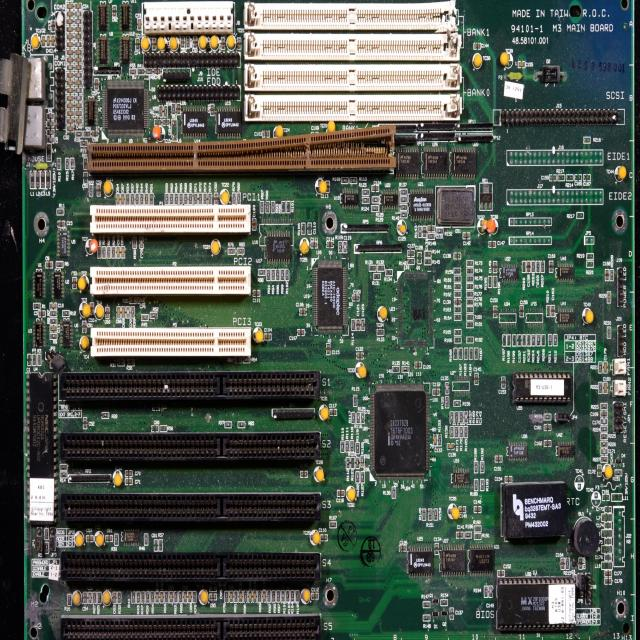Capacitor Jumper: (66, 40, 74, 49), (66, 85, 74, 94), (153, 538, 158, 552), (72, 276, 77, 289), (74, 56, 82, 64), (74, 63, 82, 71), (75, 108, 83, 116), (74, 10, 82, 18), (543, 439, 552, 446), (434, 543, 439, 555), (560, 558, 565, 570), (96, 184, 101, 196), (526, 261, 531, 273), (604, 270, 609, 282), (82, 321, 87, 333), (517, 334, 522, 346), (66, 34, 74, 41), (74, 34, 82, 41), (432, 388, 440, 395), (181, 36, 185, 50), (300, 470, 308, 477), (458, 506, 466, 513), (75, 48, 82, 56), (497, 570, 505, 577), (311, 592, 318, 600), (75, 70, 82, 78), (74, 79, 82, 86), (75, 101, 82, 109), (154, 119, 162, 126), (91, 130, 98, 138), (66, 11, 74, 18), (67, 18, 74, 26), (549, 260, 553, 274), (74, 26, 82, 33), (66, 26, 74, 33), (299, 308, 307, 315), (94, 79, 99, 90), (307, 223, 312, 234), (422, 226, 427, 237), (116, 247, 121, 258), (473, 506, 482, 512), (68, 93, 74, 102), (73, 19, 82, 25), (427, 226, 436, 232), (49, 326, 58, 332), (120, 193, 124, 206), (493, 260, 497, 273), (544, 424, 551, 431), (337, 489, 344, 496), (106, 535, 113, 542), (86, 536, 93, 543), (210, 593, 217, 600), (75, 87, 82, 94), (75, 95, 82, 102), (67, 102, 74, 109), (163, 119, 170, 126), (58, 220, 65, 227), (407, 250, 414, 257), (264, 333, 271, 340), (326, 343, 330, 355), (356, 353, 364, 359), (604, 362, 608, 374), (46, 35, 50, 47), (83, 417, 87, 429), (151, 425, 159, 431), (238, 37, 242, 49), (433, 434, 437, 446), (221, 38, 225, 50), (600, 449, 608, 455), (504, 476, 512, 482), (604, 507, 612, 513), (66, 49, 74, 55), (209, 585, 217, 591), (489, 586, 493, 598), (67, 56, 73, 64), (253, 592, 257, 604), (160, 592, 164, 604), (88, 592, 92, 604), (66, 4, 74, 10), (518, 62, 526, 68), (67, 78, 73, 86), (210, 104, 214, 116), (66, 110, 74, 116), (66, 125, 74, 131), (574, 174, 582, 180), (549, 175, 557, 181), (84, 172, 88, 184), (214, 193, 218, 205), (488, 241, 496, 247), (310, 242, 318, 248), (326, 242, 334, 248), (121, 246, 125, 258), (417, 252, 421, 264), (45, 262, 53, 268), (453, 299, 461, 305), (493, 306, 497, 318), (116, 306, 120, 318), (105, 306, 109, 318), (502, 377, 506, 388), (445, 382, 449, 393), (229, 591, 233, 602), (450, 608, 454, 619), (116, 193, 120, 204), (343, 242, 347, 253), (90, 303, 94, 314), (520, 305, 524, 316), (551, 305, 555, 316), (126, 308, 130, 319), (601, 418, 607, 425), (136, 37, 139, 51), (74, 42, 81, 48), (473, 43, 480, 49), (126, 478, 132, 485), (74, 4, 81, 10), (67, 72, 74, 78), (67, 117, 74, 123), (75, 118, 82, 124), (263, 130, 269, 137), (372, 186, 379, 192), (454, 252, 461, 258), (352, 294, 359, 300), (138, 298, 145, 304), (38, 311, 45, 317), (414, 362, 422, 367), (600, 411, 608, 416), (597, 465, 601, 475), (125, 471, 133, 476), (602, 495, 610, 500), (578, 559, 582, 569), (604, 571, 612, 576), (604, 579, 612, 584), (238, 592, 242, 602), (262, 592, 266, 602), (169, 592, 173, 602), (112, 6, 116, 16), (137, 19, 141, 29), (356, 320, 360, 330), (177, 102, 180, 115), (28, 353, 31, 365), (604, 382, 607, 394), (42, 34, 45, 46), (51, 36, 54, 48), (603, 524, 612, 528), (321, 534, 327, 540), (188, 591, 191, 603), (84, 591, 87, 603), (68, 65, 74, 71), (122, 306, 125, 318), (447, 444, 454, 449), (457, 531, 462, 538), (605, 539, 612, 544), (604, 555, 611, 560), (583, 175, 590, 180), (253, 291, 260, 296), (50, 303, 57, 308), (297, 330, 304, 335), (475, 373, 478, 384), (464, 412, 467, 423), (194, 38, 197, 49), (113, 591, 116, 602), (248, 591, 251, 602), (51, 20, 54, 31), (328, 410, 336, 414), (462, 234, 470, 238), (153, 38, 156, 48), (496, 457, 502, 462), (400, 545, 406, 550), (156, 592, 159, 602), (154, 69, 160, 74), (361, 320, 364, 330), (184, 592, 186, 602)
Connector: (62, 548, 322, 585), (61, 432, 320, 466), (59, 372, 321, 402), (62, 492, 322, 520), (244, 91, 463, 123), (244, 64, 463, 92), (244, 31, 462, 59), (245, 1, 460, 29), (90, 266, 252, 296), (91, 328, 252, 357), (90, 204, 251, 232), (142, 2, 234, 34), (500, 108, 620, 127), (142, 52, 242, 68), (156, 84, 241, 100)
IC: (370, 387, 430, 482), (496, 578, 576, 634), (27, 373, 56, 522), (314, 260, 347, 334), (107, 81, 146, 134), (469, 543, 494, 579), (408, 544, 434, 578), (216, 108, 241, 140), (442, 544, 466, 575), (410, 187, 433, 219), (422, 149, 449, 176), (182, 108, 207, 136), (395, 148, 419, 176), (452, 149, 476, 176), (411, 191, 434, 218), (267, 237, 291, 261), (508, 442, 528, 461), (96, 5, 110, 30), (33, 271, 45, 298), (382, 190, 398, 210), (120, 4, 132, 30), (502, 263, 518, 282), (342, 191, 359, 208), (499, 311, 517, 327), (85, 99, 96, 124), (558, 442, 575, 458), (558, 265, 575, 281), (557, 309, 574, 325), (34, 322, 45, 346), (61, 322, 72, 346), (98, 38, 108, 62), (53, 272, 63, 296), (527, 310, 543, 324), (121, 39, 130, 61)
Resistor Jumper: (606, 327, 612, 339), (116, 359, 126, 366), (266, 591, 272, 602), (66, 594, 72, 605), (148, 194, 154, 205), (65, 157, 70, 170), (132, 237, 137, 250), (127, 359, 135, 367), (424, 250, 432, 258), (34, 302, 42, 310), (376, 329, 385, 336), (452, 347, 457, 359), (473, 349, 479, 359), (449, 411, 454, 423), (449, 426, 454, 438), (463, 428, 469, 438), (354, 458, 360, 468), (145, 592, 150, 604), (286, 202, 291, 214), (281, 202, 286, 214), (59, 463, 67, 470), (615, 468, 622, 476), (329, 520, 336, 528), (474, 532, 481, 540), (83, 130, 91, 137), (584, 136, 591, 144), (84, 156, 88, 170), (70, 158, 74, 172), (566, 173, 574, 180), (349, 178, 357, 185), (373, 273, 381, 280), (466, 306, 474, 313), (437, 435, 442, 446), (479, 479, 484, 490), (421, 508, 426, 519), (257, 591, 262, 602), (117, 592, 122, 603), (164, 192, 169, 203), (202, 193, 207, 204), (275, 270, 280, 281), (487, 276, 492, 287), (531, 335, 536, 346), (101, 412, 110, 418), (224, 422, 233, 428), (128, 297, 137, 303), (392, 486, 396, 499), (164, 105, 168, 118), (89, 183, 93, 196), (208, 192, 212, 205), (135, 193, 139, 206), (301, 222, 305, 235), (532, 260, 536, 273), (427, 510, 432, 520), (483, 586, 488, 596), (150, 592, 155, 602), (290, 592, 295, 602), (492, 277, 497, 287), (541, 334, 546, 344), (601, 433, 608, 440), (75, 131, 82, 138), (407, 258, 414, 265), (56, 261, 63, 268), (37, 353, 41, 365), (32, 354, 36, 366), (600, 403, 608, 409), (160, 426, 168, 432), (459, 426, 463, 438), (600, 440, 608, 446), (464, 532, 472, 538), (144, 533, 148, 545), (276, 590, 280, 602), (132, 591, 136, 603), (94, 592, 98, 604), (440, 600, 448, 606), (80, 140, 88, 146), (341, 178, 349, 184), (194, 192, 198, 204), (126, 193, 130, 205), (184, 194, 188, 206), (260, 201, 264, 213), (371, 206, 379, 212), (427, 233, 435, 239), (338, 241, 342, 253), (228, 248, 236, 254), (236, 248, 244, 254), (107, 246, 111, 258), (466, 260, 474, 266), (541, 260, 545, 272), (536, 261, 540, 273), (522, 262, 526, 274), (385, 270, 393, 276), (546, 305, 550, 317), (453, 314, 461, 320), (507, 334, 511, 346), (527, 334, 531, 346), (502, 334, 506, 346), (360, 413, 365, 422), (285, 591, 290, 600), (49, 319, 58, 324), (465, 337, 474, 342), (464, 348, 468, 359), (469, 348, 473, 359), (598, 362, 602, 373), (454, 412, 458, 423), (454, 427, 458, 438), (474, 461, 478, 472), (44, 528, 48, 539), (295, 591, 299, 602), (281, 591, 285, 602), (243, 591, 247, 602), (171, 103, 175, 114), (232, 193, 236, 204), (237, 193, 241, 204), (174, 193, 178, 204), (198, 193, 202, 204), (179, 194, 183, 205), (418, 226, 422, 237), (97, 247, 101, 258), (610, 270, 614, 281), (351, 319, 355, 330), (522, 335, 526, 346), (474, 526, 481, 532), (234, 590, 237, 604), (423, 602, 430, 608), (423, 615, 430, 621), (129, 68, 136, 74), (146, 69, 153, 75), (400, 196, 407, 202), (57, 209, 64, 215), (436, 228, 443, 234), (369, 264, 376, 270), (454, 282, 461, 288), (150, 312, 157, 318), (142, 314, 148, 321), (454, 329, 461, 335), (459, 348, 463, 358), (392, 366, 400, 371), (598, 382, 602, 392), (544, 415, 552, 420), (350, 440, 354, 450), (474, 480, 478, 490), (433, 510, 438, 518), (159, 540, 163, 550), (566, 559, 570, 569), (271, 591, 275, 601), (224, 592, 228, 602), (140, 593, 144, 603), (140, 195, 144, 205), (266, 202, 270, 212), (102, 248, 106, 258), (586, 254, 594, 259), (424, 259, 432, 264), (271, 269, 275, 279), (266, 269, 270, 279), (285, 270, 289, 280), (131, 308, 135, 318), (62, 311, 70, 316), (536, 335, 540, 345), (553, 335, 557, 345), (402, 366, 408, 372), (187, 36, 190, 48), (346, 456, 349, 468), (481, 461, 484, 473), (60, 472, 66, 478), (360, 473, 364, 482), (165, 591, 168, 603), (193, 591, 196, 603), (138, 69, 144, 75), (159, 106, 162, 118), (170, 193, 173, 205), (272, 201, 275, 213), (587, 260, 593, 266), (378, 264, 384, 270), (454, 268, 460, 274), (607, 291, 610, 303), (454, 307, 460, 313), (49, 312, 58, 316), (467, 314, 473, 320), (467, 322, 473, 328), (454, 401, 461, 406), (238, 421, 245, 426), (601, 426, 608, 431), (601, 457, 608, 462), (558, 175, 565, 180), (372, 198, 379, 203), (466, 276, 473, 281), (467, 292, 474, 297), (466, 300, 473, 305), (454, 337, 461, 342), (45, 543, 48, 554), (179, 592, 182, 603), (137, 592, 140, 603), (145, 193, 148, 204), (131, 194, 134, 205), (112, 246, 115, 257), (549, 335, 552, 346), (353, 396, 357, 404), (400, 190, 408, 194), (188, 195, 192, 203), (400, 212, 408, 216), (576, 214, 584, 218), (512, 337, 516, 345), (352, 412, 355, 422), (460, 413, 463, 423), (345, 441, 348, 451), (341, 442, 344, 452), (356, 442, 359, 452), (361, 456, 364, 466), (356, 472, 359, 482), (115, 534, 118, 544), (174, 593, 177, 603), (57, 158, 60, 168), (400, 204, 406, 209), (281, 270, 284, 280), (467, 284, 473, 289), (362, 190, 369, 194), (351, 458, 354, 467), (446, 396, 448, 408), (356, 414, 359, 422), (362, 198, 368, 202), (466, 270, 474, 273), (454, 276, 460, 280), (454, 291, 460, 295), (98, 592, 100, 602), (258, 272, 265, 274)
